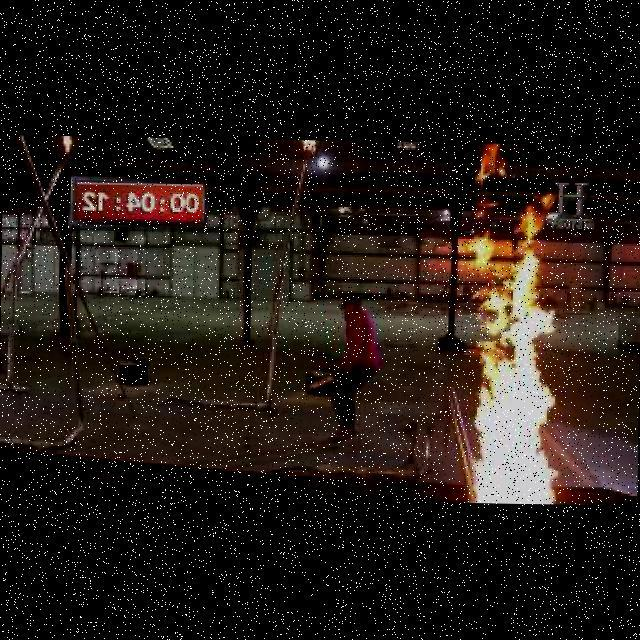Fire: (461, 189, 554, 502), (473, 145, 514, 182)
